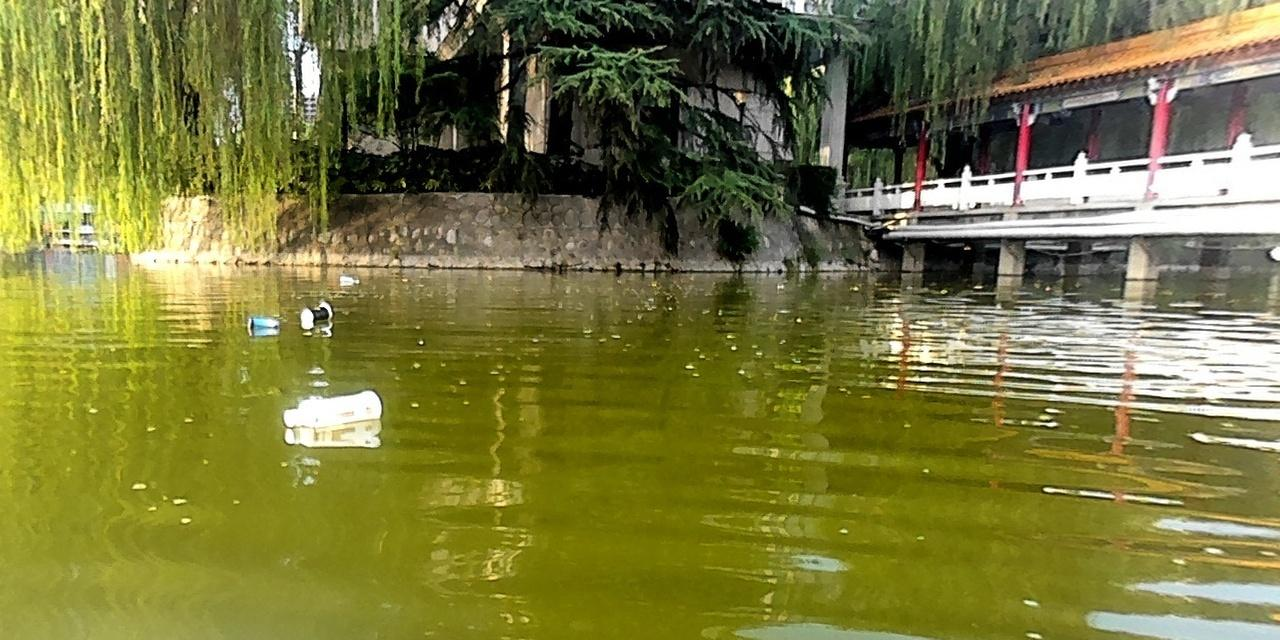bottle: (276, 385, 387, 428), (295, 298, 334, 324), (244, 313, 281, 331), (337, 272, 362, 284)
